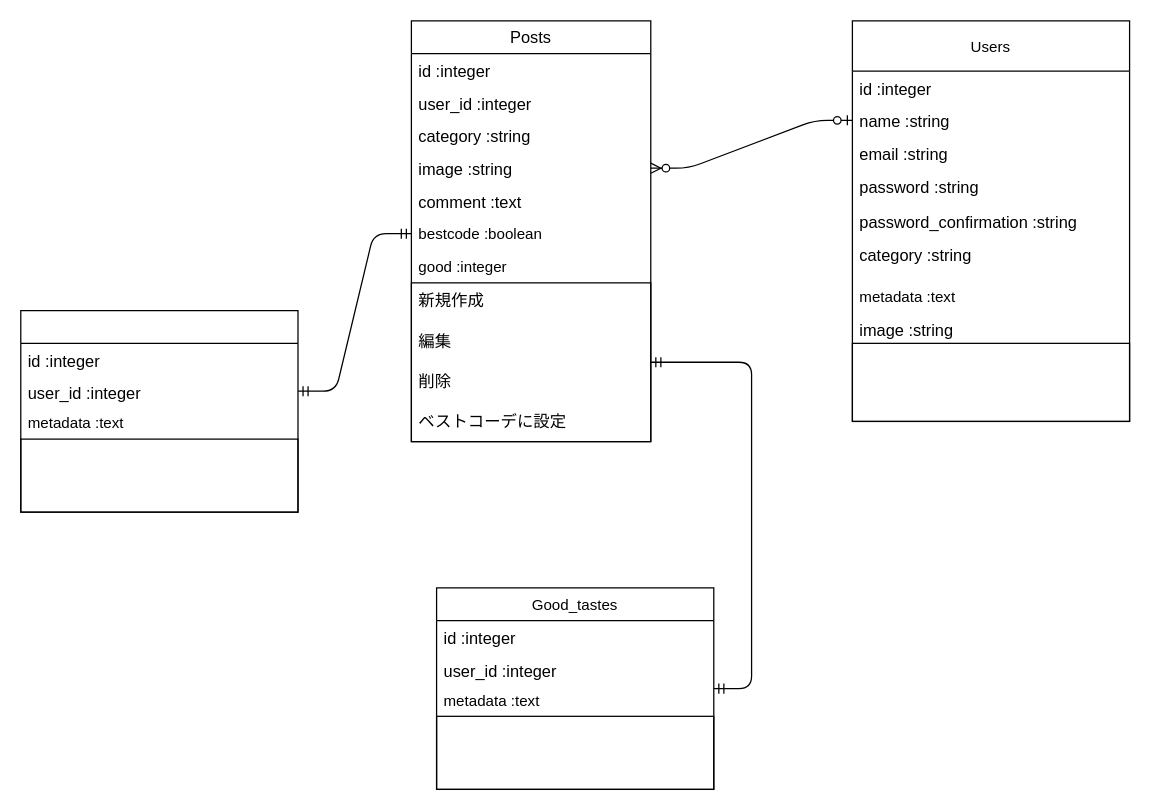
Image size: 1150x810. Some labels were removed from this diagram. Here are the shapes that lost their labels. From the top down, the centre of each, then its label:
At (990,381): "新規作成 編集".
At (574,752): "センスの良いお気に入り".
